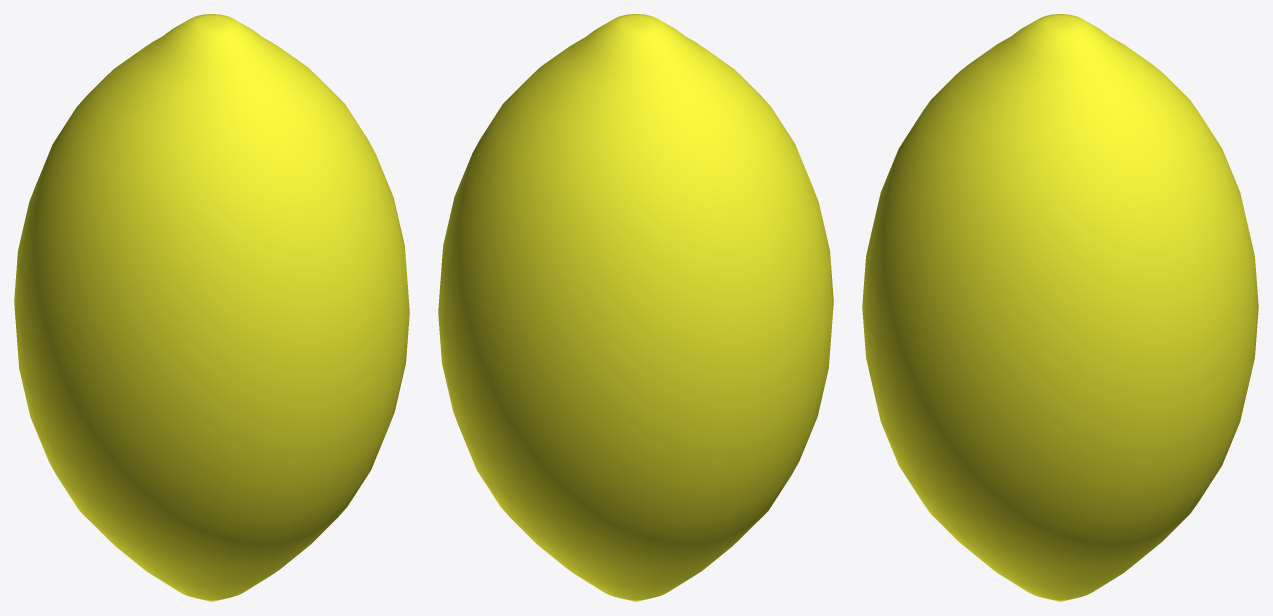
File: Fruit_Lemon.fbx
3 views of the same model, side by side, from view 1: azimuth 30°, elevation 25°; view 2: azimuth 150°, elevation 25°; view 3: azimuth 270°, elevation 25° (orthographic).
Parts seen in each view (by area): view 1: lemon; view 2: lemon; view 3: lemon.
Boxes of the visible parts, x1,y1,x2,y2 form: lemon: (14, 14, 409, 601); lemon: (438, 14, 833, 601); lemon: (862, 14, 1258, 601).
Size of the model in its own units: 200 by 323 by 200.
